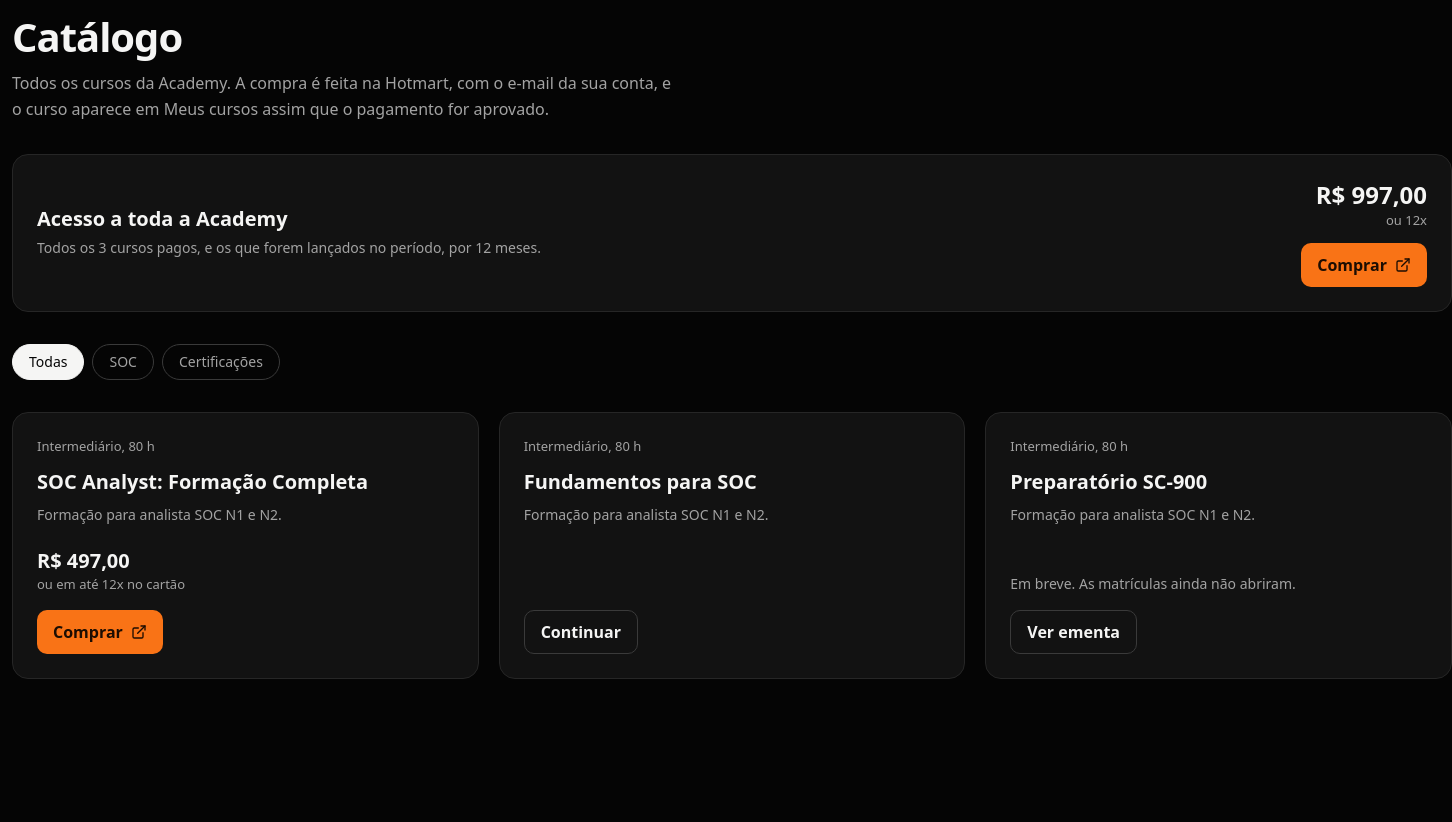
Test: ofertas no catálogo do portal (fase 16b) › plataforma toda no topo e a trilha completa ao filtrar, com o e-mail da conta
Expected: the text "Todos os 3 cursos pagos, e os que forem lançados no período, por 12 meses." is shown, [37,238,541,257]
Expected: the element "Trilha SOC completa" is not shown
Click the button "SOC" at (123, 362), box [92,344,154,380]
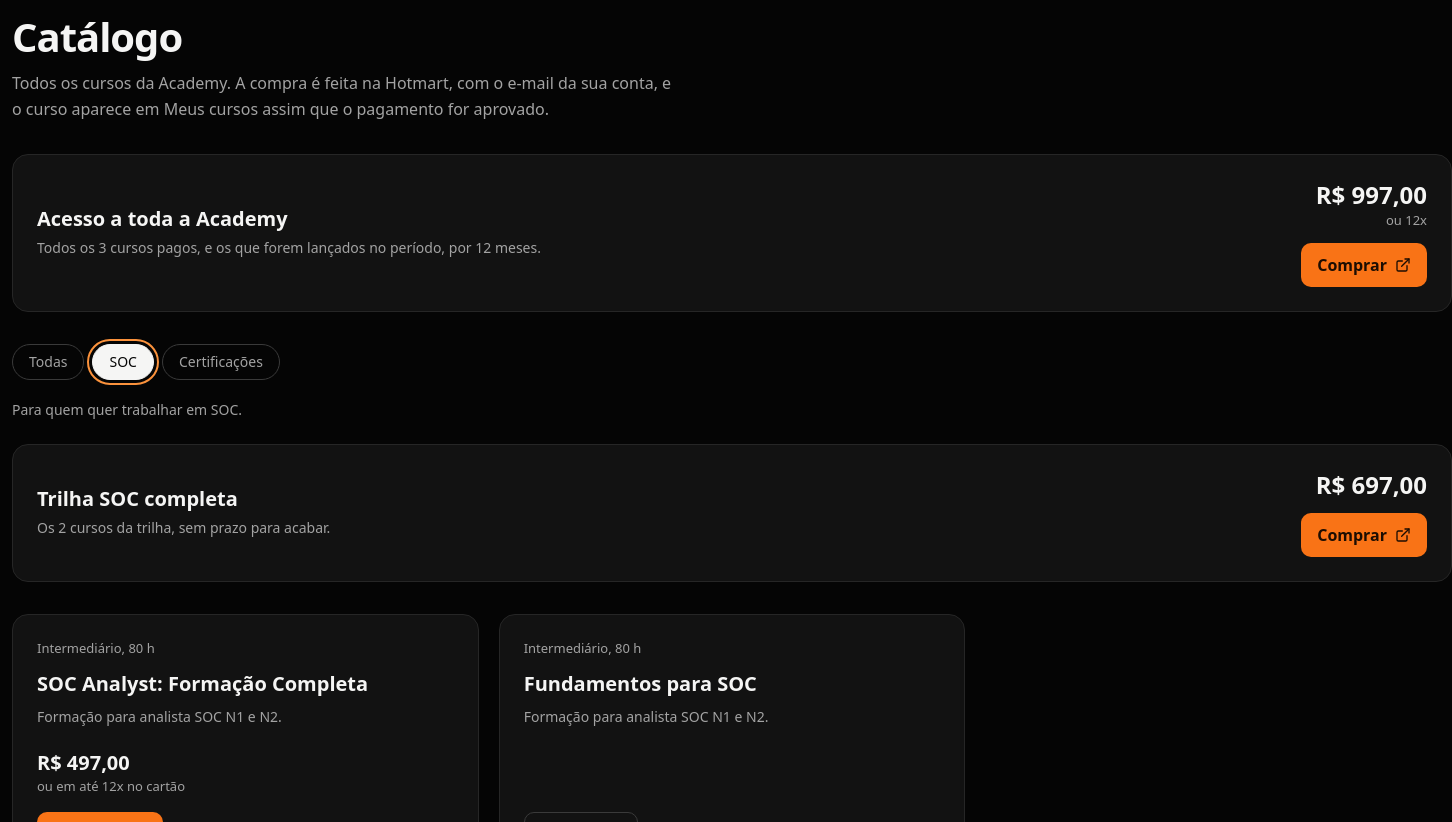
Expected: the element "Trilha SOC completa" is shown, [12,444,1451,582]
